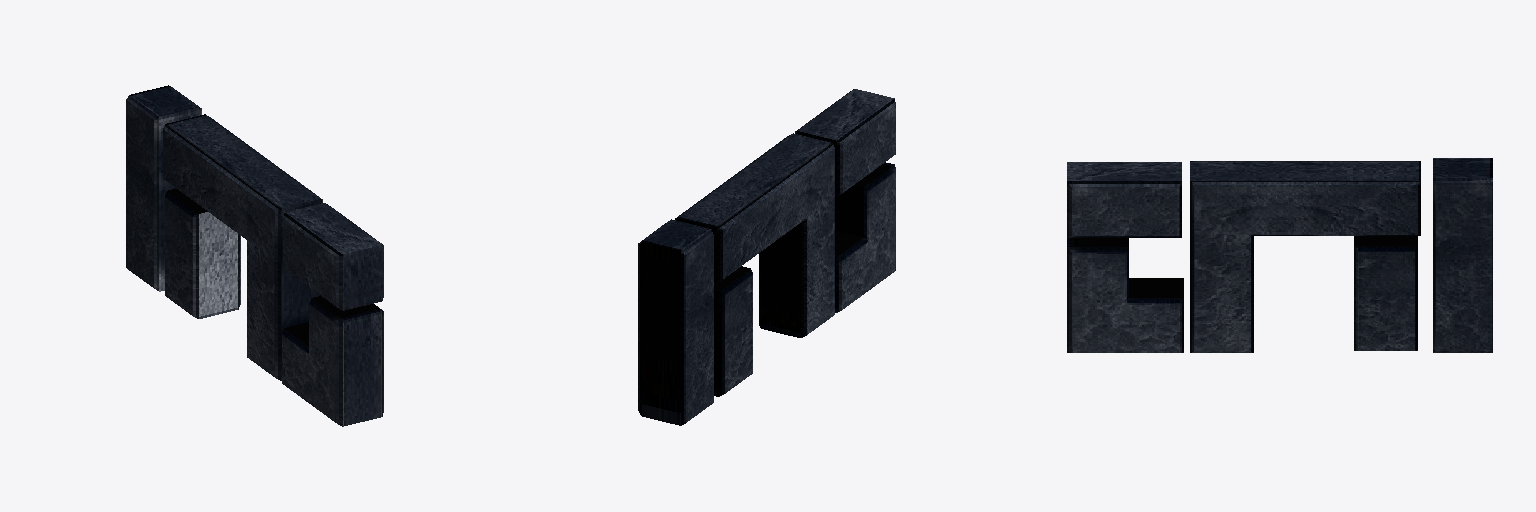
3 renders of one model, left to right at view 1: azimuth 30°, elevation 25°; view 2: azimuth 150°, elevation 25°; view 3: azimuth 270°, elevation 25°, orthographic.
Size of the model in its own units: 3 by 10.48 by 23.08.
1 materials, 1 textured.